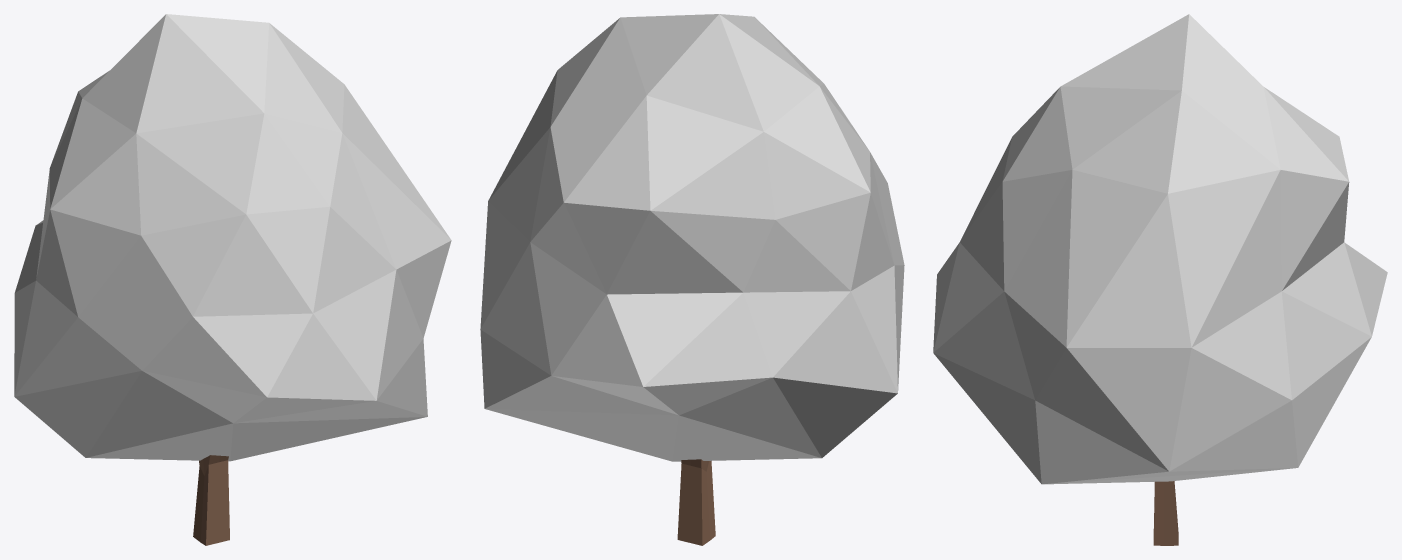
File: Tree_57_White.fbx
3 renders of one model, left to right at view 1: azimuth 30°, elevation 25°; view 2: azimuth 150°, elevation 25°; view 3: azimuth 270°, elevation 25°, orthographic. The views are drawn at different scales.
Visible parts, largest first — view 1: Tree_57_White_Part_1, Tree_57_White_Part_2; view 2: Tree_57_White_Part_1, Tree_57_White_Part_2; view 3: Tree_57_White_Part_1, Tree_57_White_Part_2.
Boxes of the visible parts, x1,y1,x2,y2 form: Tree_57_White_Part_1: (14, 14, 451, 461); Tree_57_White_Part_2: (193, 455, 229, 545); Tree_57_White_Part_1: (480, 14, 904, 461); Tree_57_White_Part_2: (677, 459, 715, 545); Tree_57_White_Part_1: (933, 14, 1387, 484); Tree_57_White_Part_2: (1153, 481, 1178, 545).
Bounding box in the file's own units: 643 × 801 × 647.
